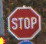stopsign: (8, 6, 41, 40)
